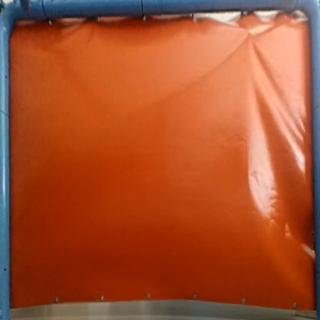Hit-hRxx: (245, 29, 263, 42)
